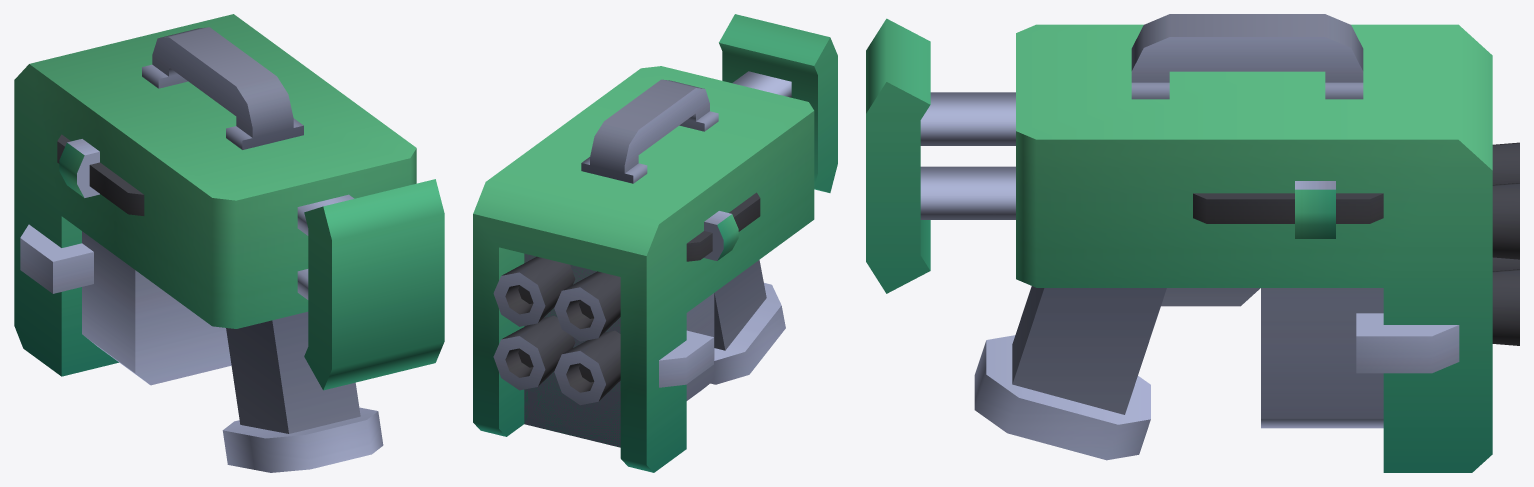
Rendered from blaster-o.glb.
3 renders of one model, left to right at view 1: azimuth 30°, elevation 25°; view 2: azimuth 150°, elevation 25°; view 3: azimuth 270°, elevation 25°, orthographic. The views are drawn at different scales.
Parts seen in each view (by area): view 1: blaster-o; view 2: blaster-o; view 3: blaster-o.
Part boxes in pixels (x1,y1,x2,y2): blaster-o: (14, 14, 444, 472); blaster-o: (473, 14, 837, 472); blaster-o: (866, 14, 1519, 472).
Bounding box in the file's own units: 0.245 × 0.3338 × 0.48.
Materials: 1 (1 with a texture image).
